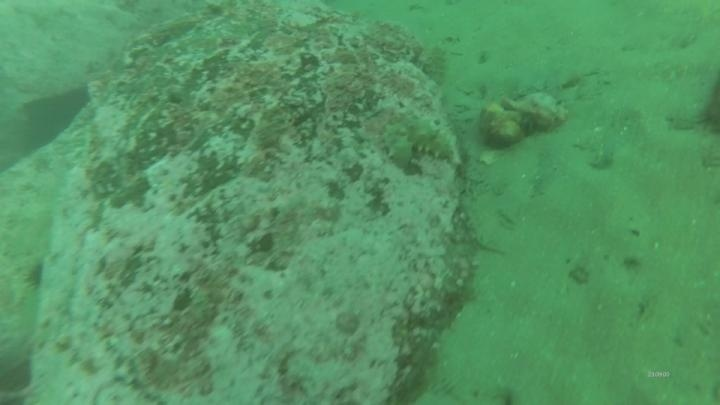holothurian: (379, 113, 463, 171), (417, 42, 451, 89)
